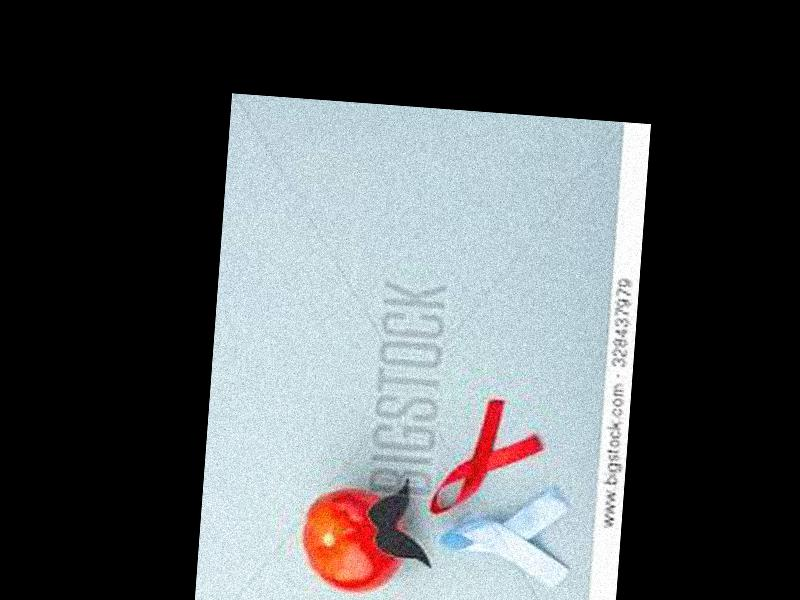Tomato: (298, 484, 408, 595)
